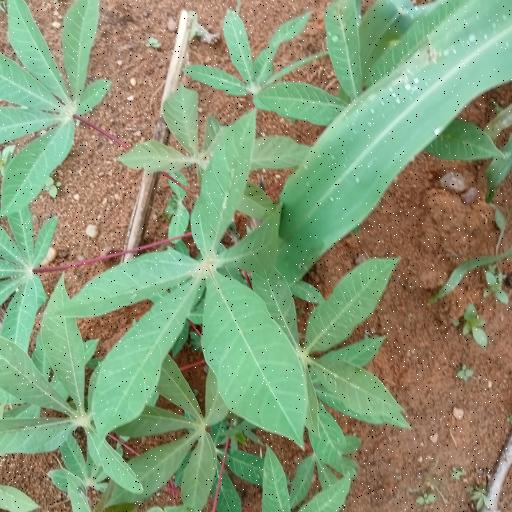Cassava_Mosaic: (81, 117, 308, 422)
